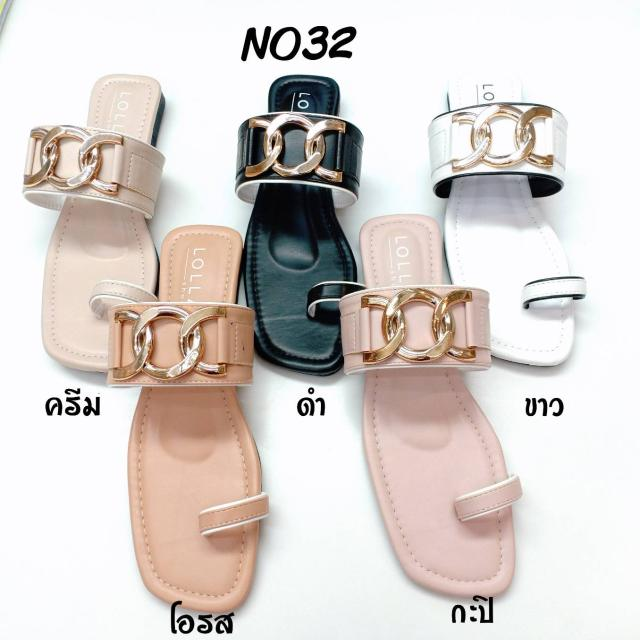black: (242, 66, 359, 372)
cream: (36, 72, 158, 378)
kapi: (358, 226, 514, 594)
orot: (127, 215, 260, 616)
white: (444, 74, 574, 368)
